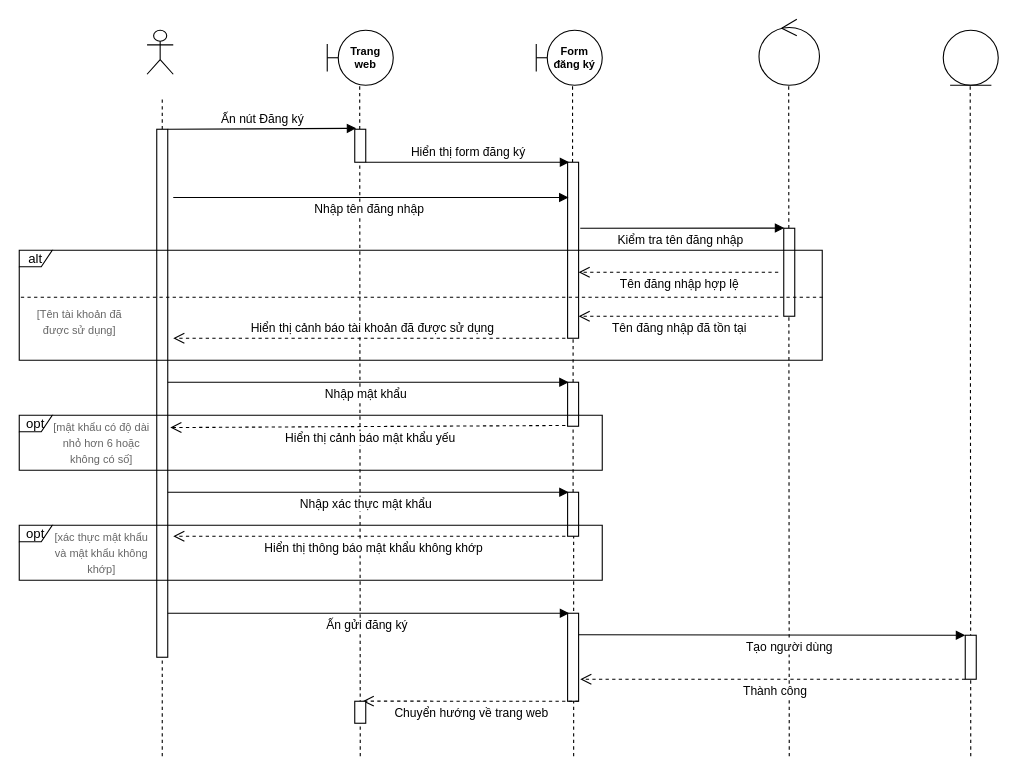
Some shapes in this 1018 by 777 pixel diagram are drawn without their labels. The centre of each missing label's shape, as x and y in pixels:
Cơ sở dữ liệu: [970,57]
Hệ thống xử lý: [789,51]
User: [159,51]
